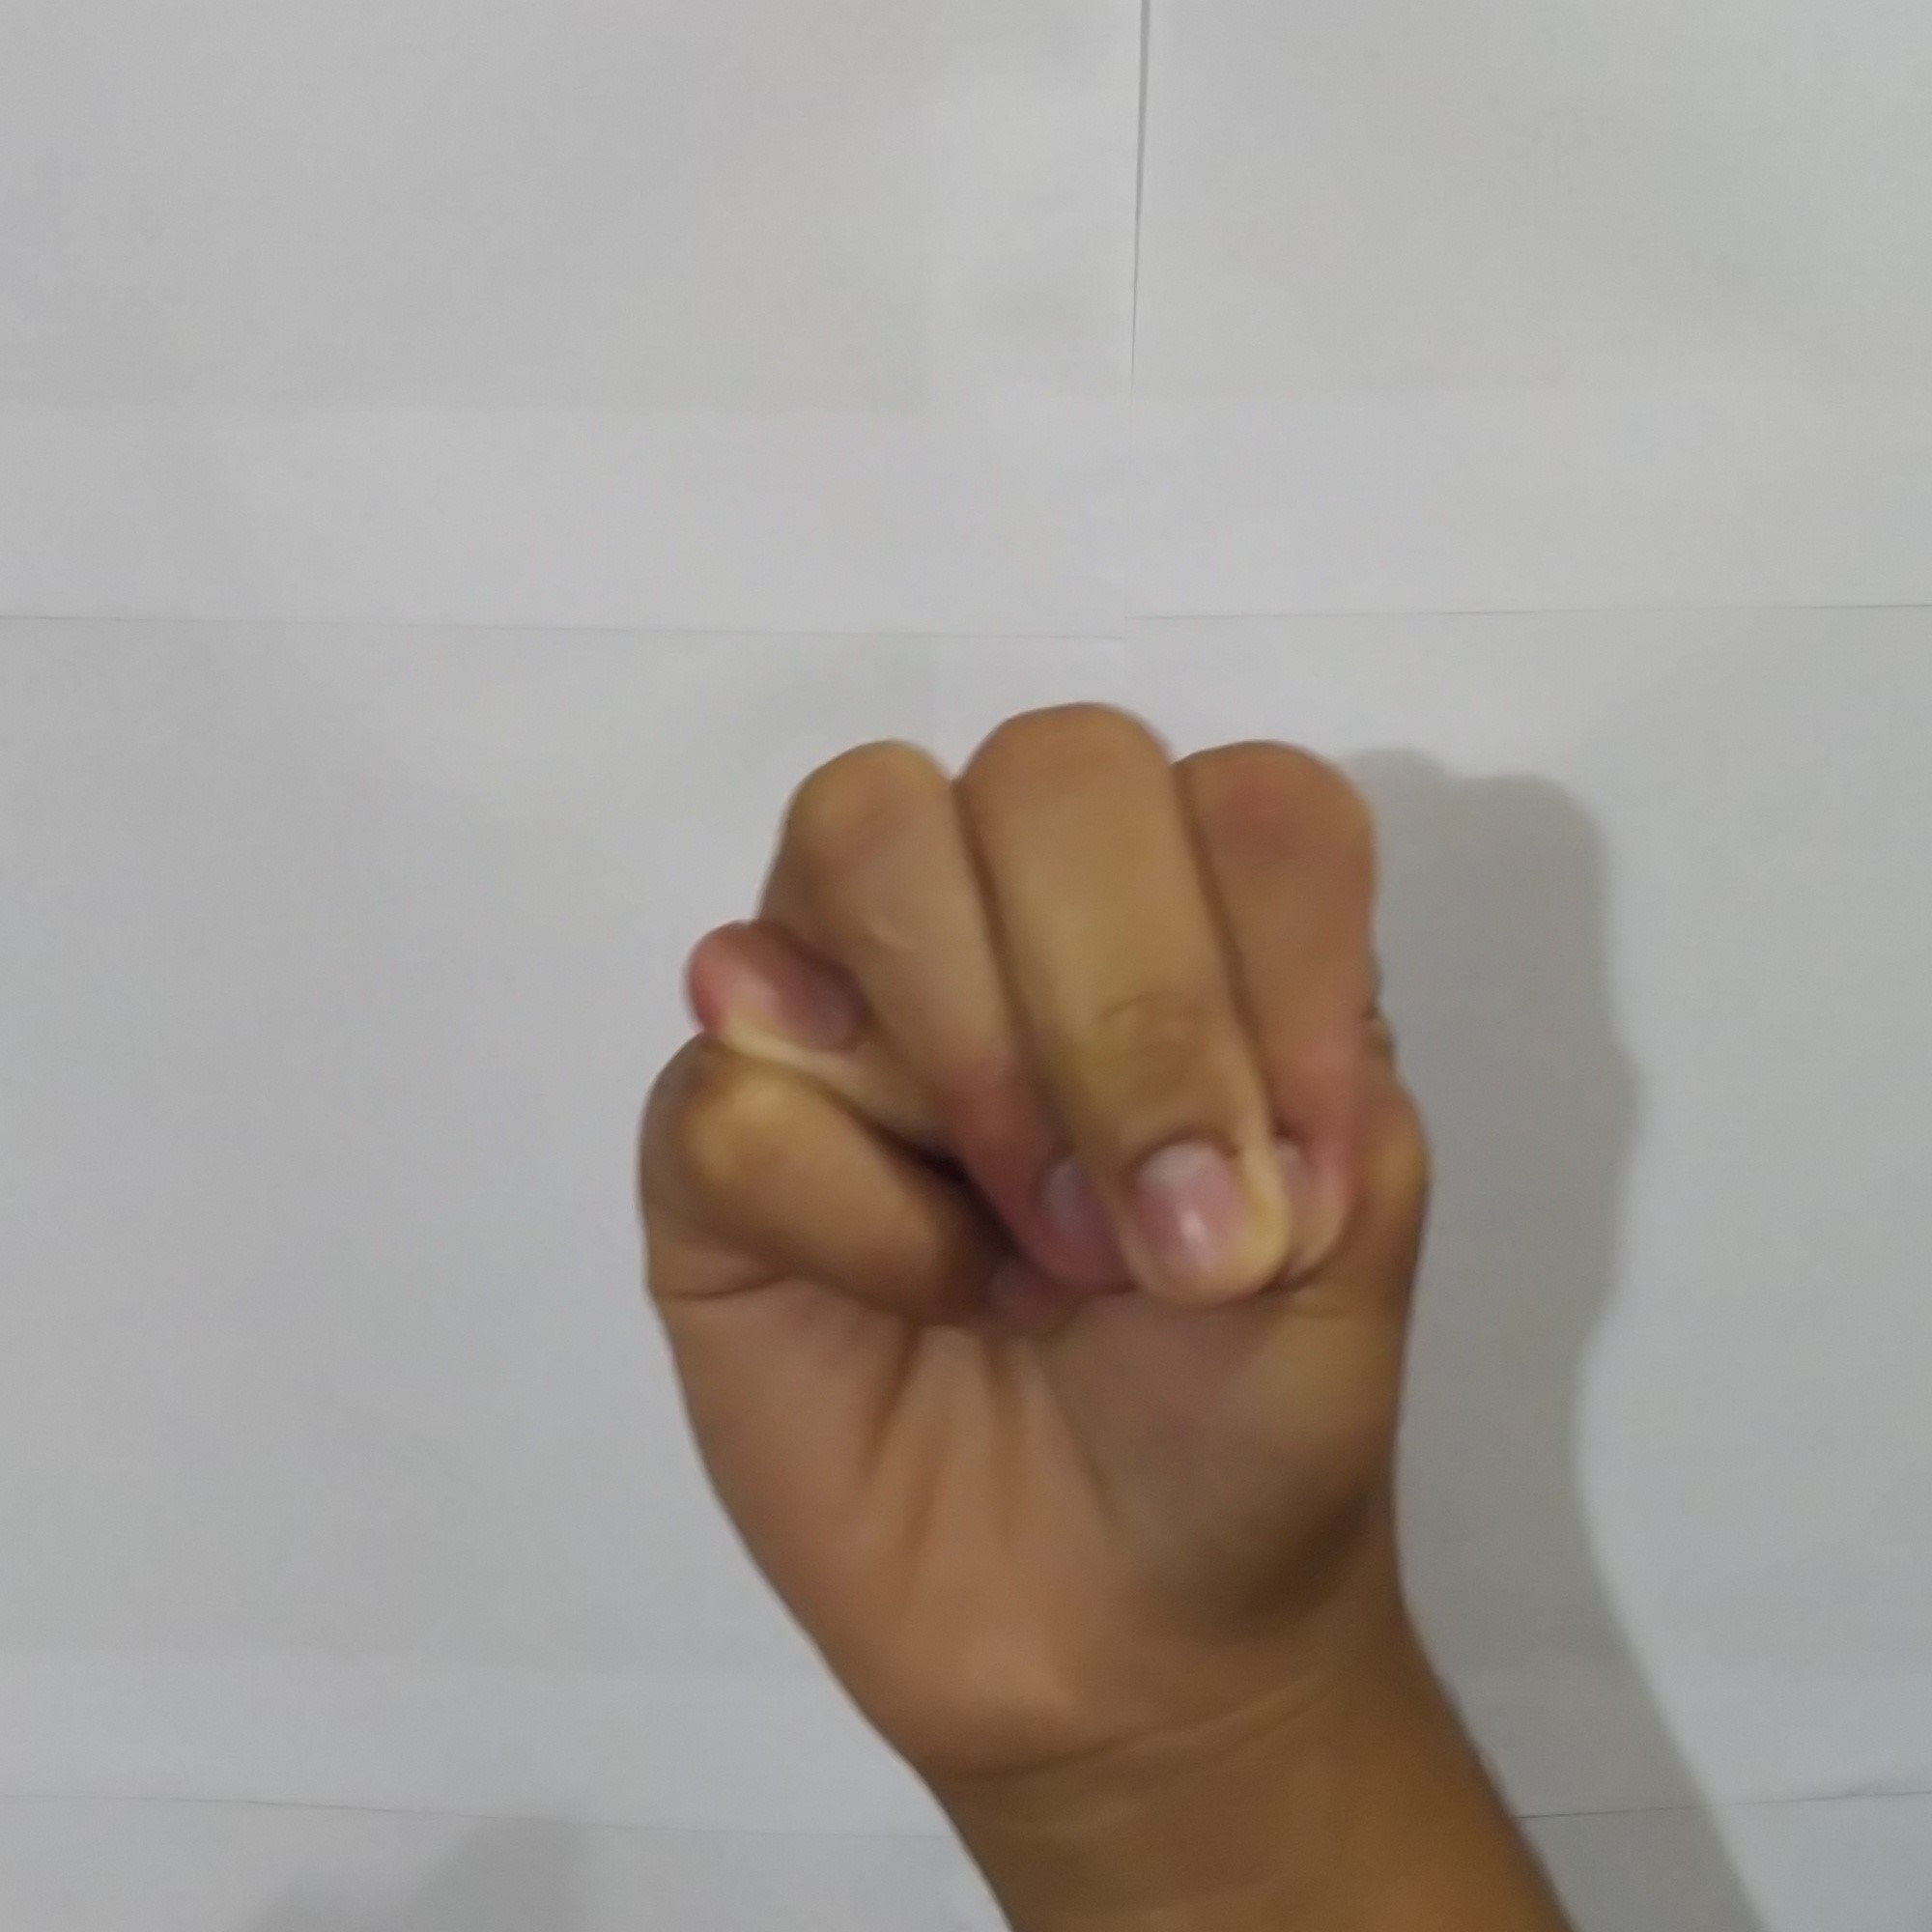M: (596, 667, 1454, 1727)
